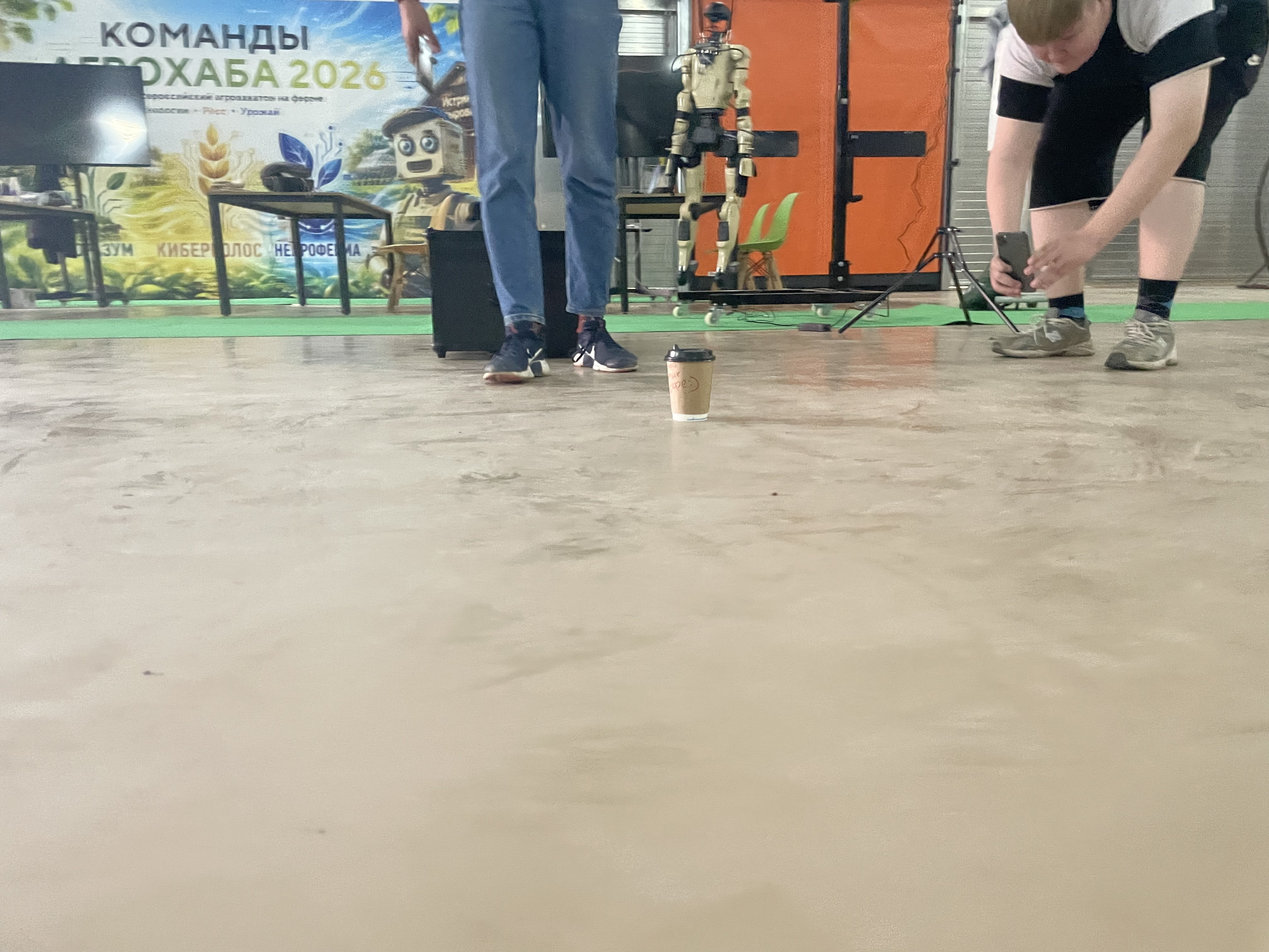cup: (664, 344, 716, 422)
